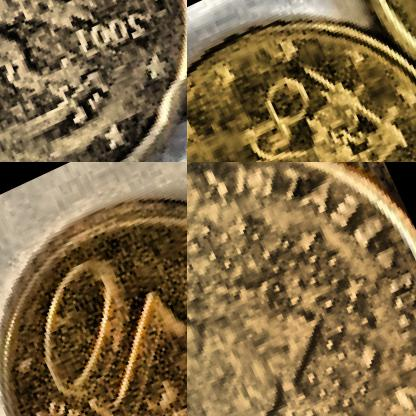coin: (187, 162, 415, 415), (0, 162, 186, 415), (187, 0, 415, 161), (0, 0, 186, 161)
